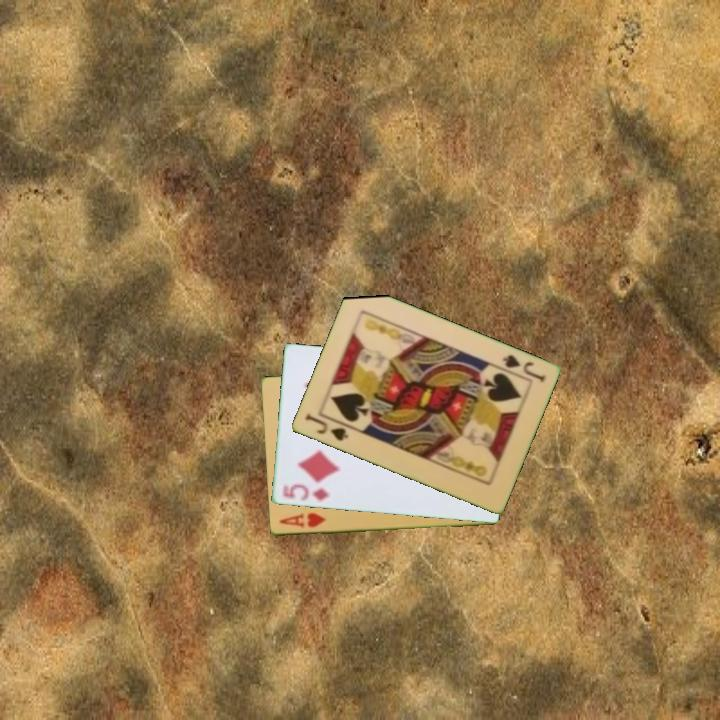5d: (278, 481, 331, 504)
Ah: (275, 509, 329, 531)
Js: (498, 351, 548, 386), (301, 410, 351, 444)
